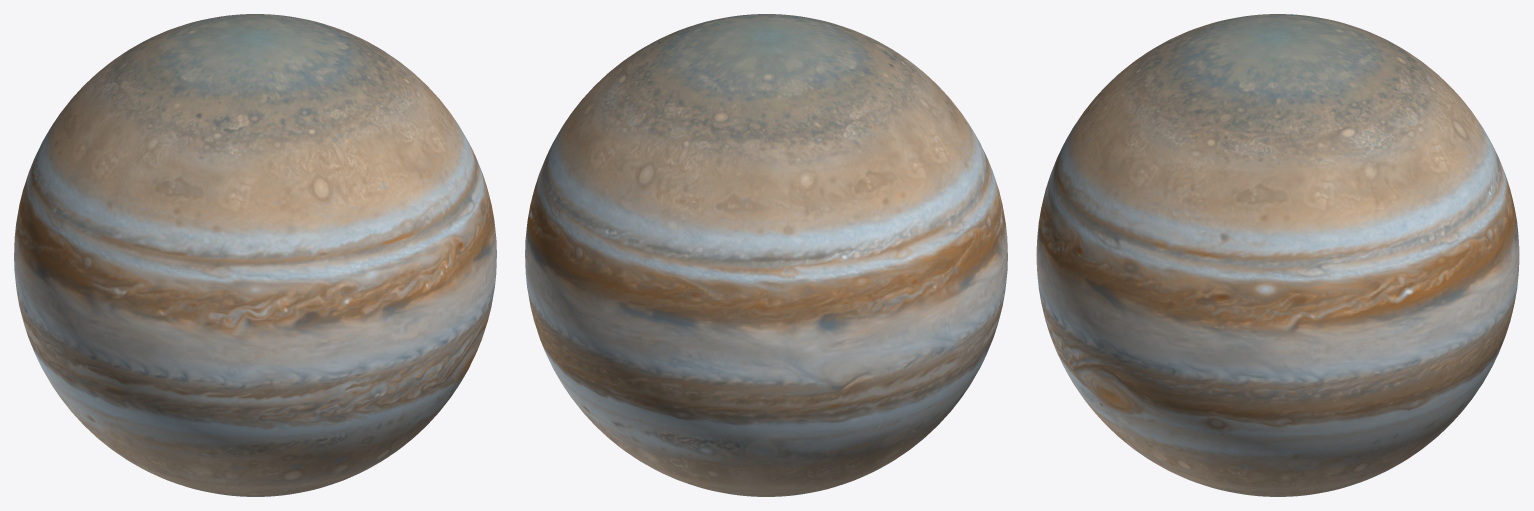
The model's file is jupiter.gltf.
3 renders of one model, left to right at view 1: azimuth 30°, elevation 25°; view 2: azimuth 150°, elevation 25°; view 3: azimuth 270°, elevation 25°, orthographic.
Visible parts, largest first — view 1: Sphere; view 2: Sphere; view 3: Sphere.
Part boxes in pixels (x1,y1,x2,y2): Sphere: (14, 14, 496, 496); Sphere: (525, 14, 1007, 496); Sphere: (1036, 14, 1519, 496).
Size of the model in its own units: 2 by 2 by 2.
Materials: 1 (1 with a texture image).
